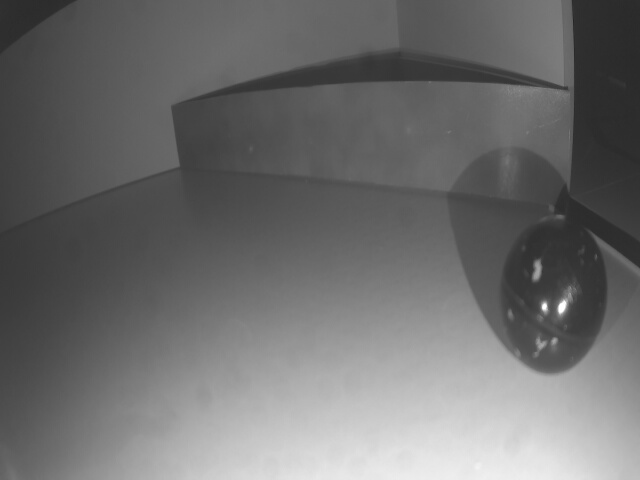Dead: (502, 216, 608, 374)
Green: (170, 87, 571, 204)
